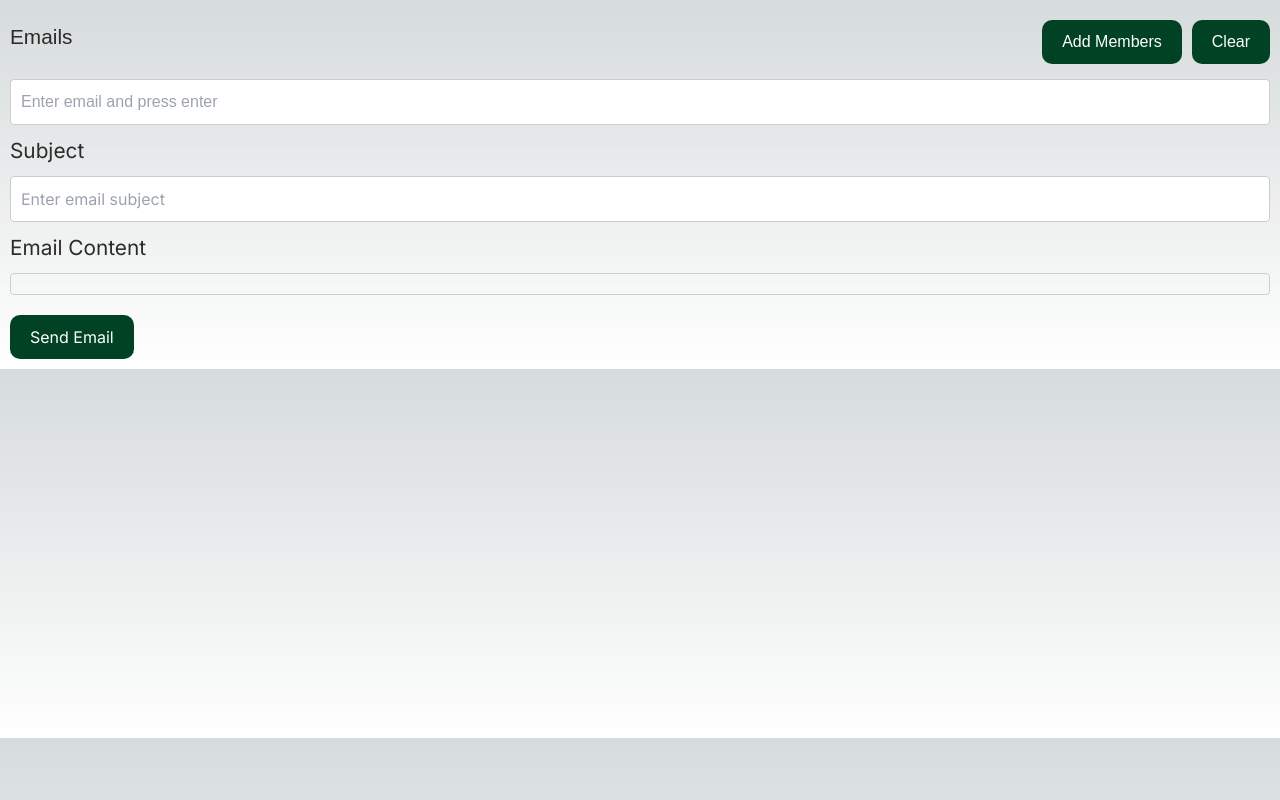
it: EmailForm Component with mocked BlockNote › clears all emails from the email list when 'Clear' is clicked
What coordinates should you click on to do the following:
click the button "Add Members"
I would click on:
 (1112, 42)
Its box is [1042, 20, 1182, 64].
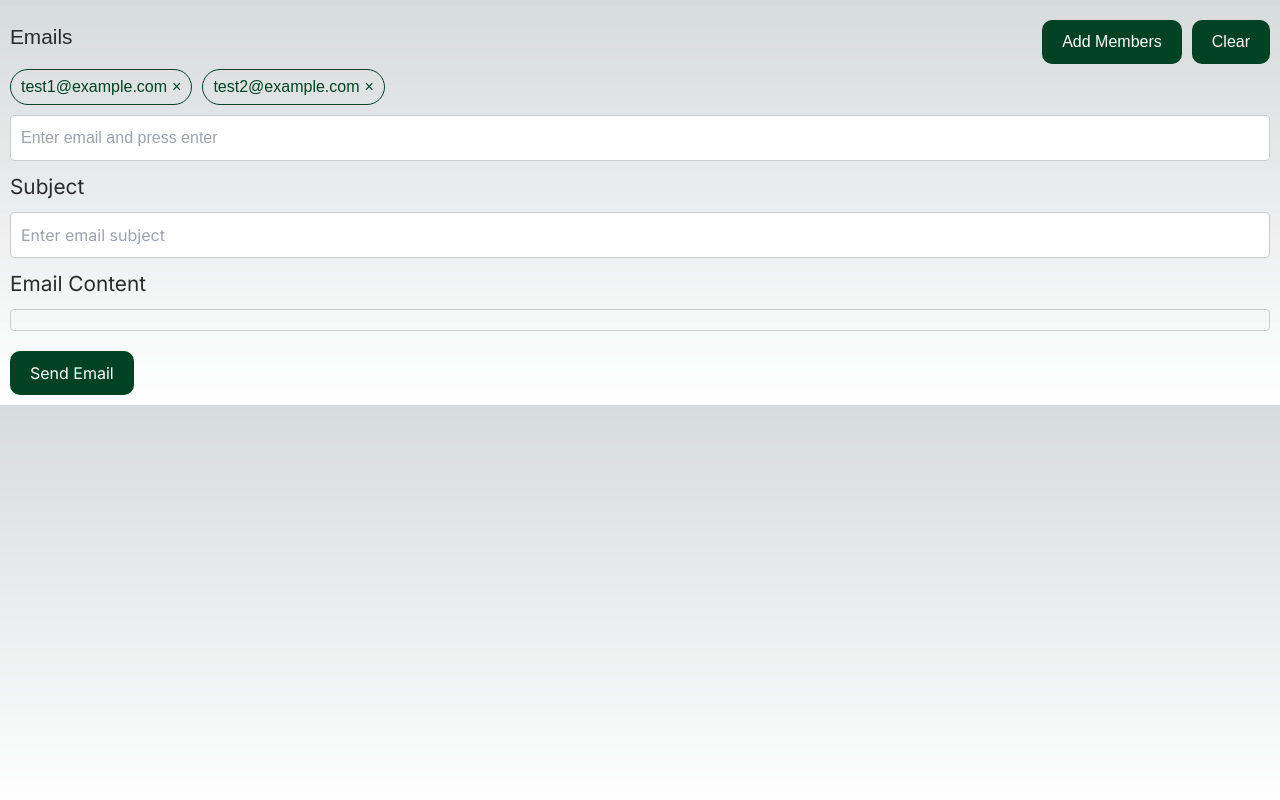
What coordinates should you click on to do the following:
click the button "Clear"
I would click on:
 (1231, 42)
Its box is [1192, 20, 1270, 64].
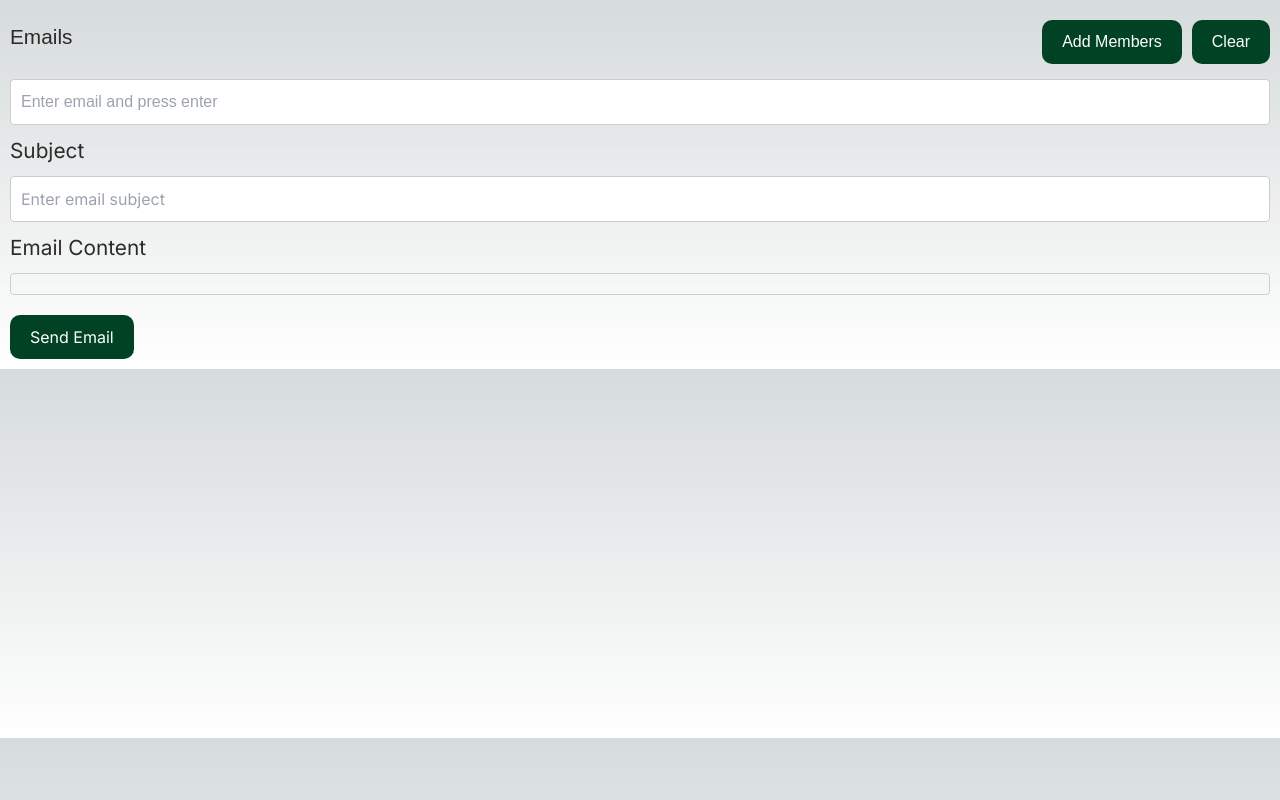
Now the text "test1@example.com" is gone
Now the text "test2@example.com" is gone
